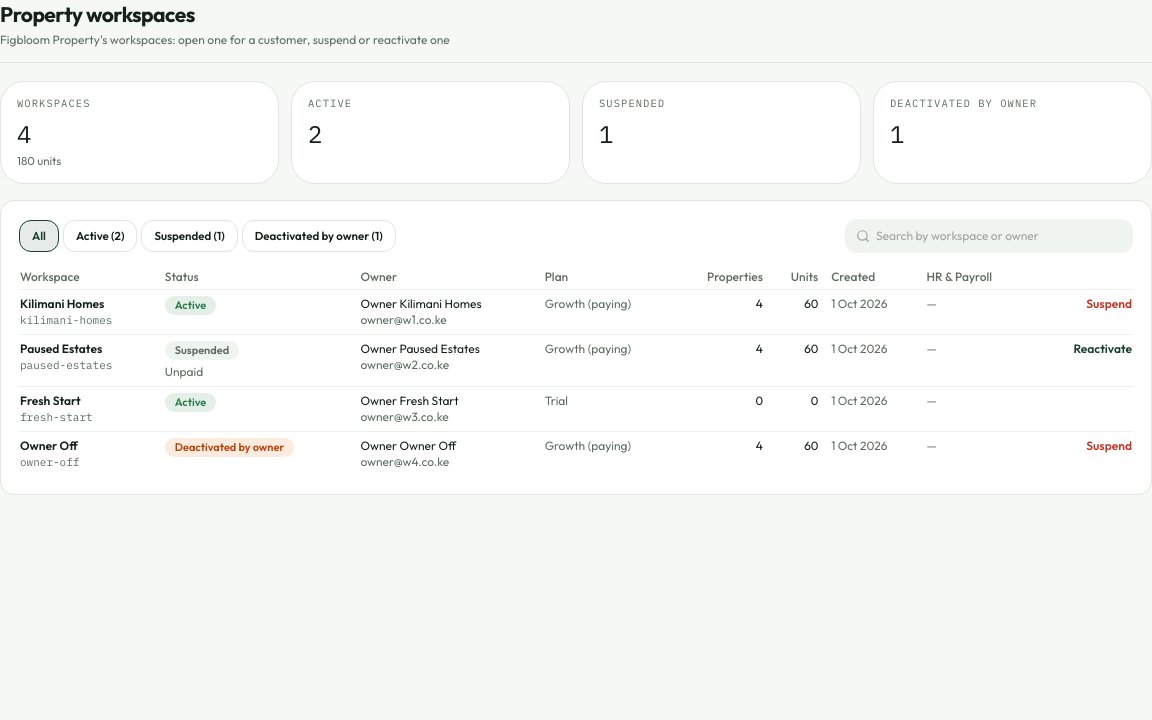
Test: the Property workspaces page › opens a workspace's details with its counts, refreshed from Property
Click the button "Kilimani Homes" at (62, 304), box [20,296,104,312]
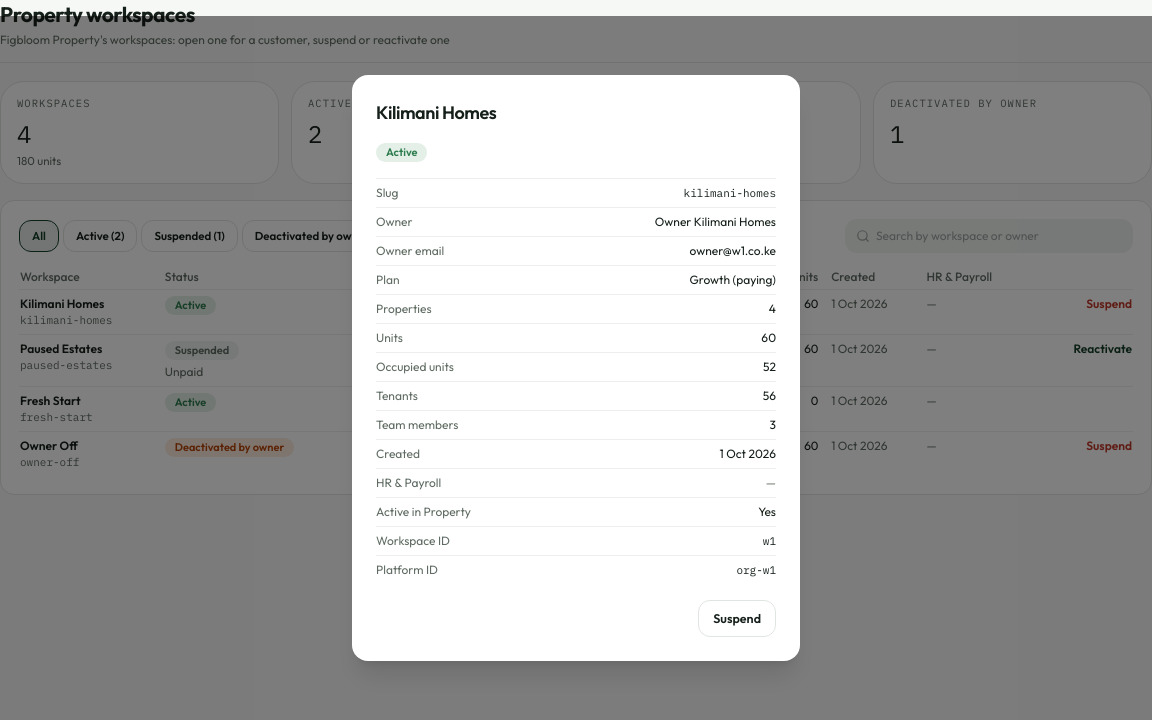
Result: the text "Occupied units" is shown at [376,359,454,375]
Result: the text "52" is shown at [763,359,776,375]
Result: the text "Team members" is shown at [376,417,458,433]
